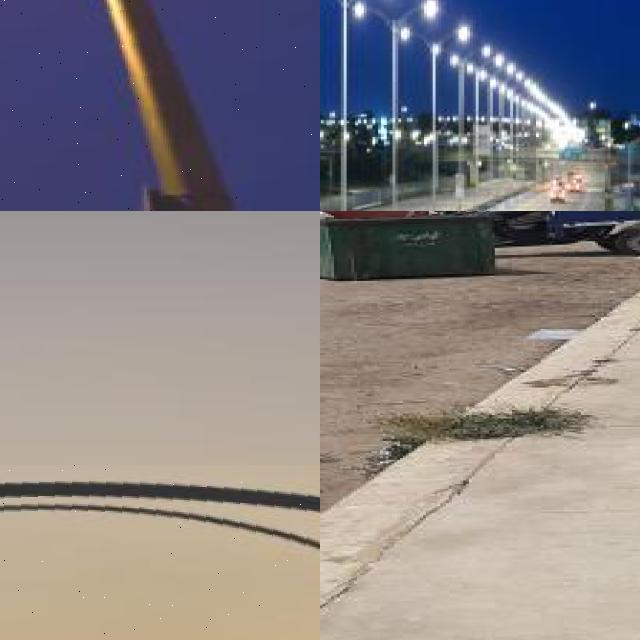street light: (0, 0, 320, 211), (0, 465, 320, 640), (352, 0, 439, 211), (320, 0, 397, 211), (401, 21, 474, 211), (447, 47, 496, 211)
